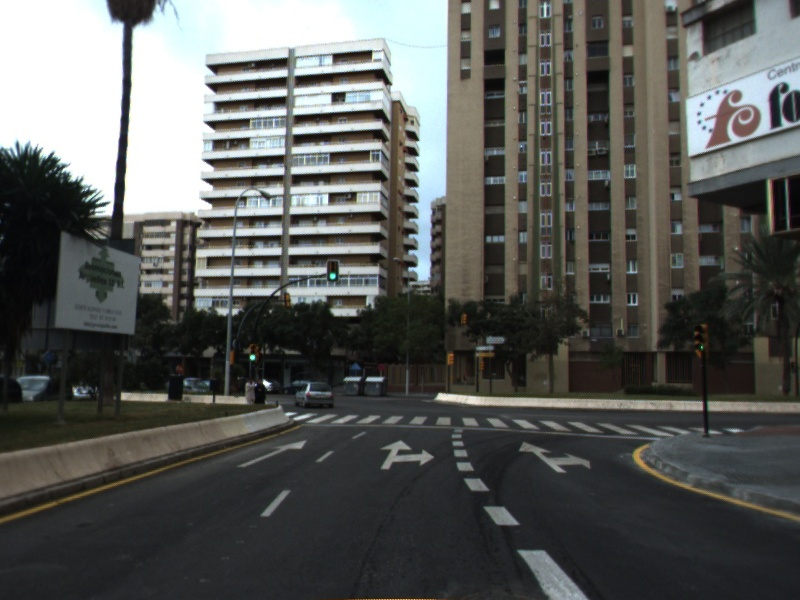STRAIGHT: (234, 438, 310, 469)
STRAIGHT_RIGHT: (517, 440, 592, 475), (378, 438, 437, 471)
